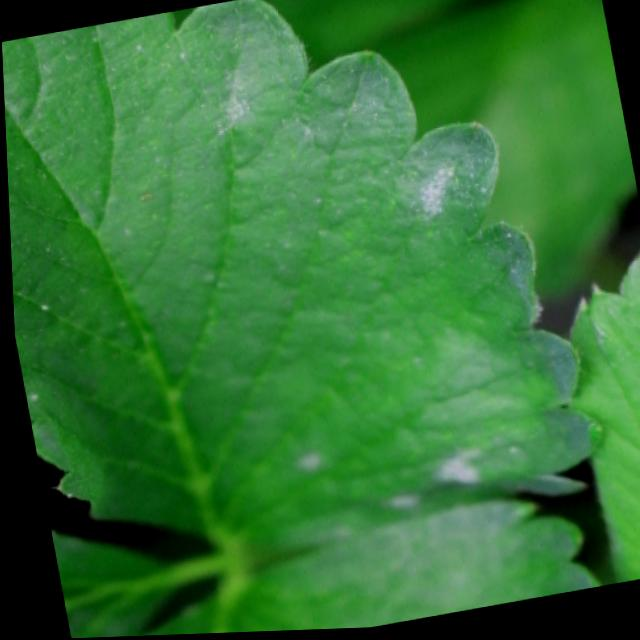Powdery Mildew Leaf: (1, 0, 602, 562)
